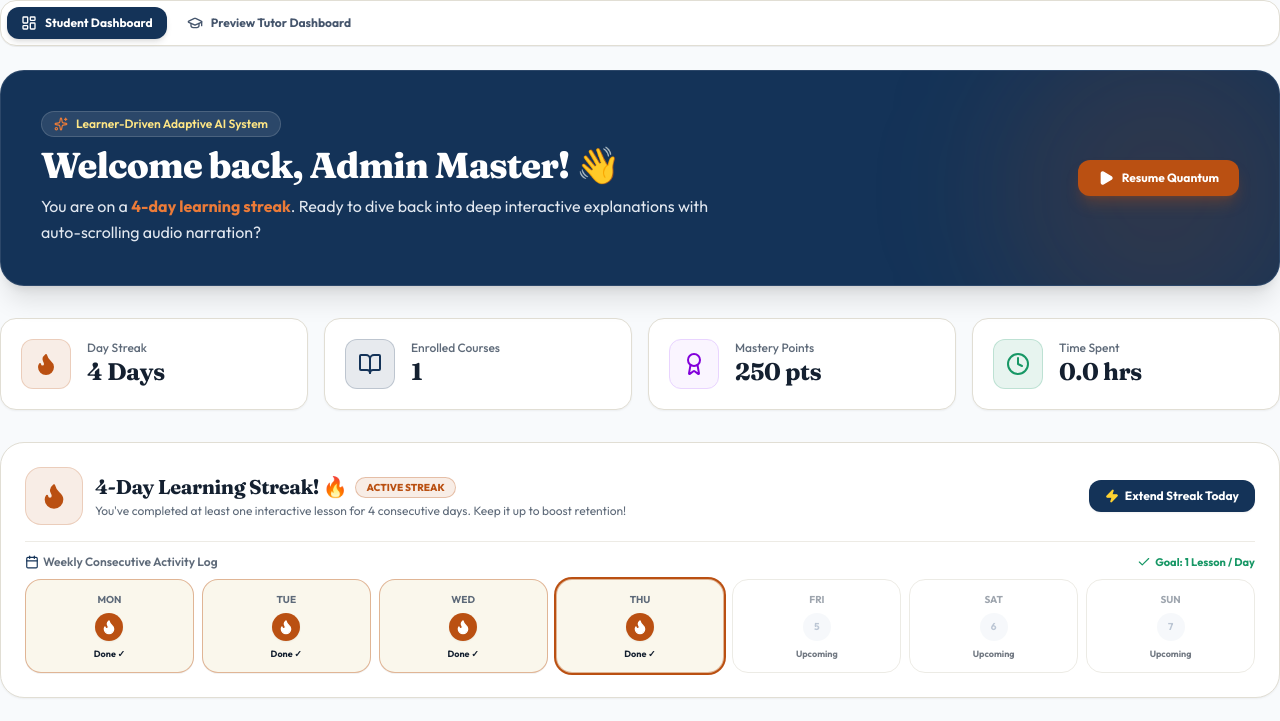
Test: Dashboard › Master role (FR-3 preview toggle) › toggling to the Tutor Dashboard preview renders it in an empty/demo state, not the real tutor data
Click the button "Preview Tutor Dashboard".
click(269, 23)  # box [173, 7, 365, 39]
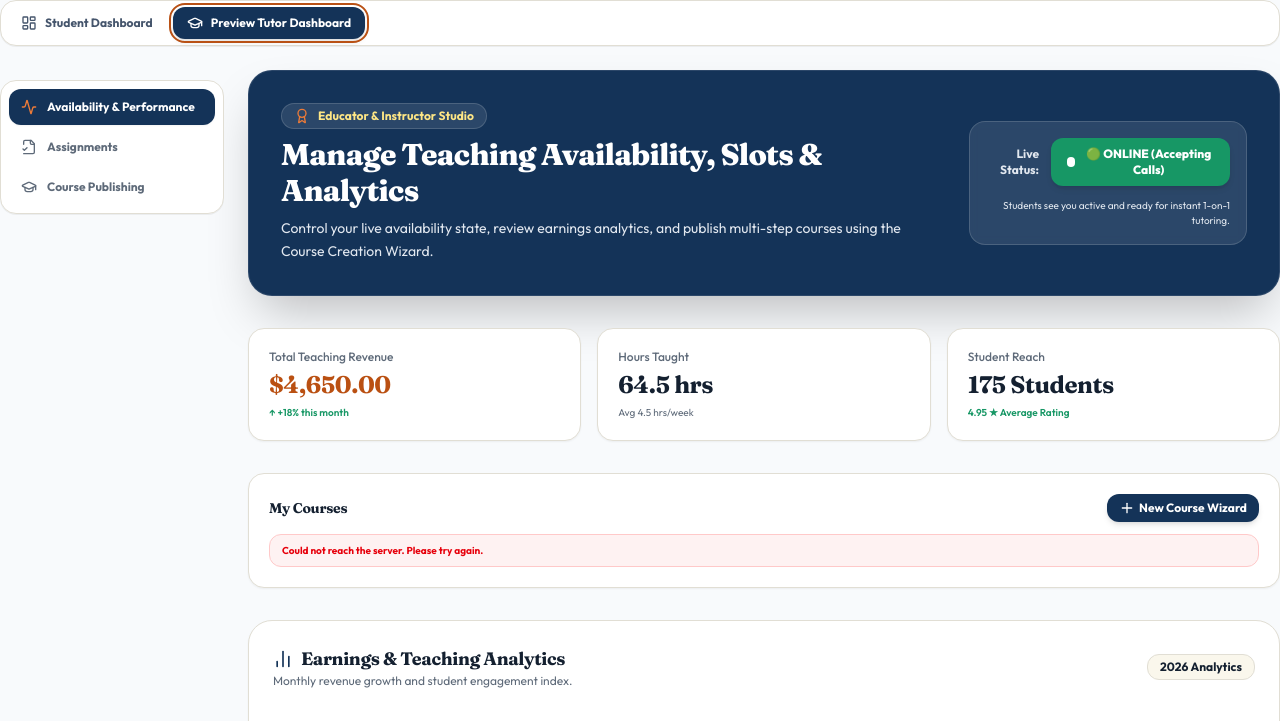
Check: the text "Educator & Instructor Studio" is shown, box [318, 108, 474, 124]
Check: the heading "Welcome back" is gone
